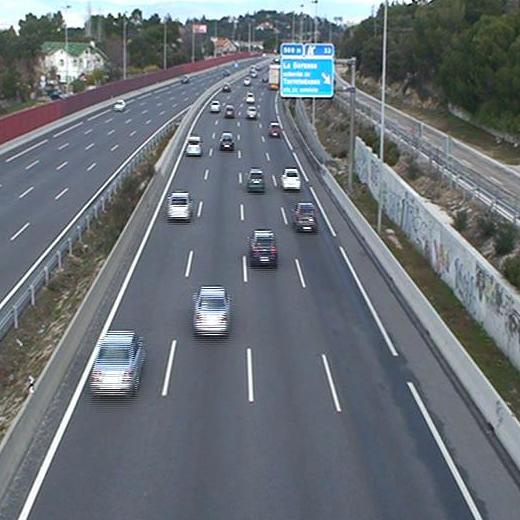car: (89, 332, 147, 395), (192, 285, 233, 337), (246, 229, 279, 266), (292, 203, 318, 232), (167, 192, 192, 219), (247, 168, 265, 190), (184, 135, 202, 154), (220, 132, 234, 148), (268, 122, 282, 137), (224, 104, 236, 116), (247, 106, 258, 116), (210, 100, 219, 110)
